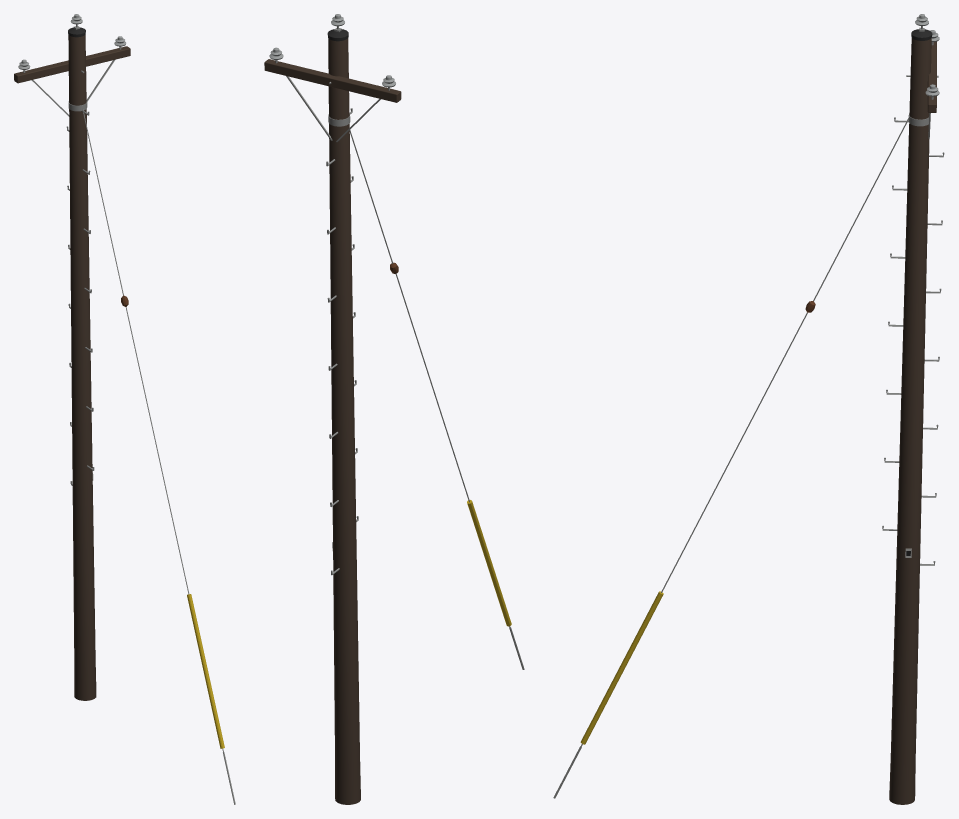
File: SM_Prop_power_pole_1.glb
3 views of the same model, side by side, from view 1: azimuth 30°, elevation 25°; view 2: azimuth 150°, elevation 25°; view 3: azimuth 270°, elevation 25° (orthographic). The views are drawn at different scales.
Parts seen in each view (by area): view 1: SM_Prop_power_pole_1; view 2: SM_Prop_power_pole_1; view 3: SM_Prop_power_pole_1.
Boxes of the visible parts, x1,y1,x2,y2 form: SM_Prop_power_pole_1: (14, 14, 235, 804); SM_Prop_power_pole_1: (264, 14, 524, 804); SM_Prop_power_pole_1: (553, 14, 944, 804).
Bounding box in the file's own units: 1.7 × 9.69 × 4.37.
